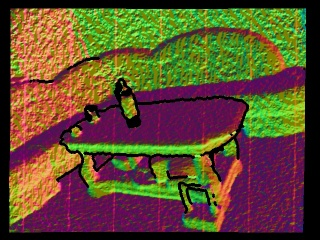station: (177, 182, 226, 234)
